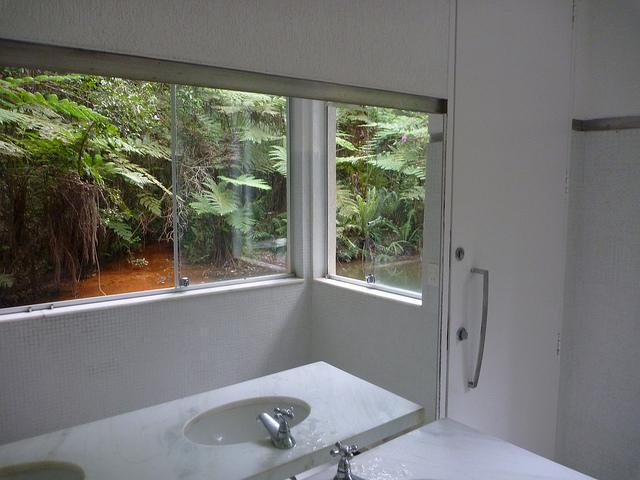Lavamanos: (175, 391, 330, 460), (0, 438, 97, 479)
